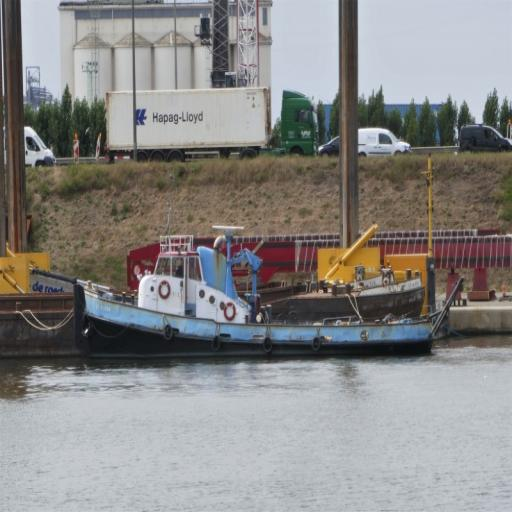tugboat: (73, 151, 468, 372)
